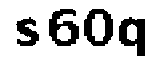0: (84, 6, 114, 52)
6: (46, 4, 79, 49)
q: (118, 14, 150, 60)
s: (15, 15, 39, 52)
